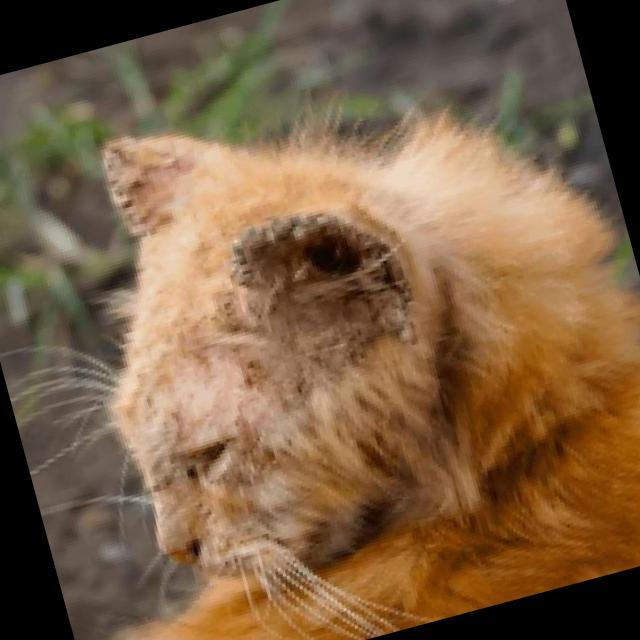Mange: (226, 209, 422, 336), (93, 128, 178, 236), (229, 342, 293, 398), (171, 444, 222, 488)
